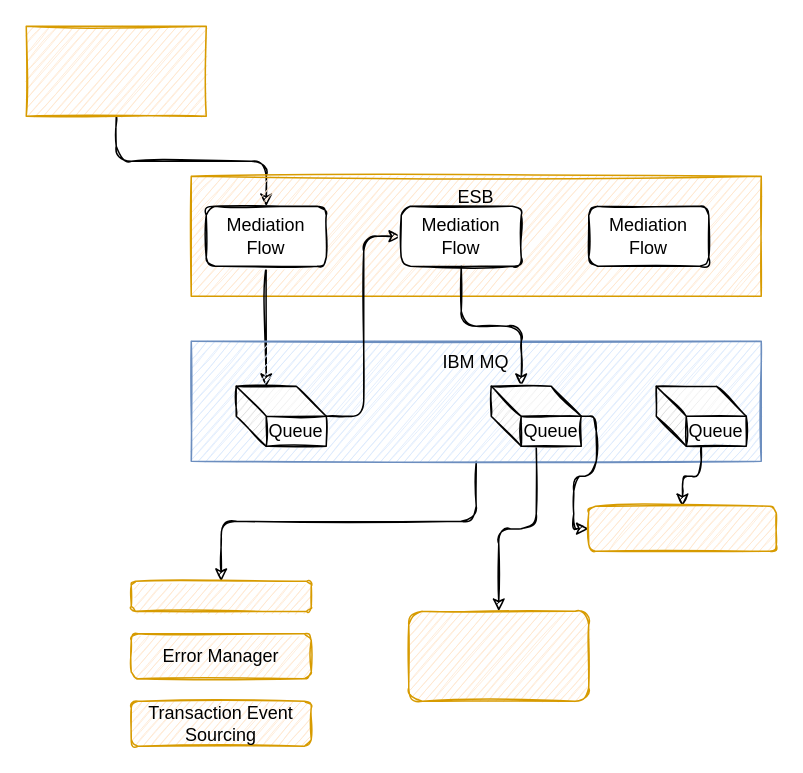
This 803x773 diagram has some shape labels left out. The shapes that lost their labels are listed below. From the top down, each one's centre as x and y in pixels, then its label:
At pixel 115 70: "Front End Application".
At pixel 681 528: "Subscriber apps".
At pixel 220 595: "Audit".
At pixel 498 655: "Notification Processor".
